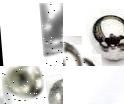ironball: (84, 11, 123, 64), (0, 66, 46, 103), (38, 3, 63, 66), (44, 70, 63, 103), (63, 45, 92, 66)
